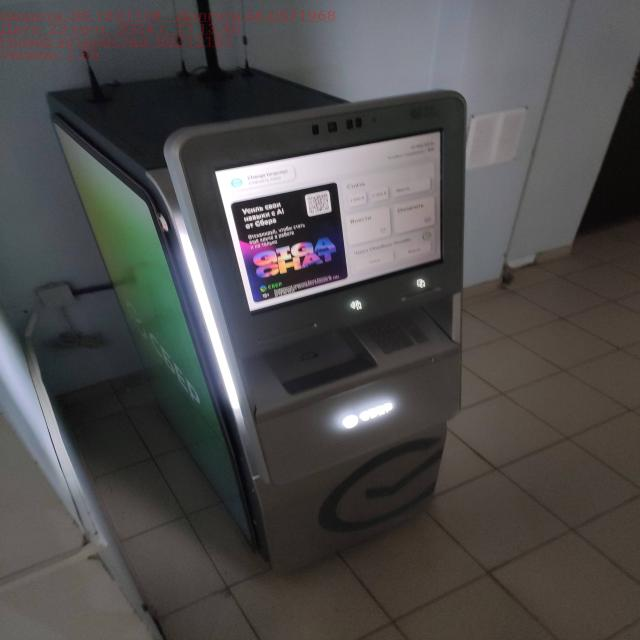bank: (50, 66, 465, 568)
